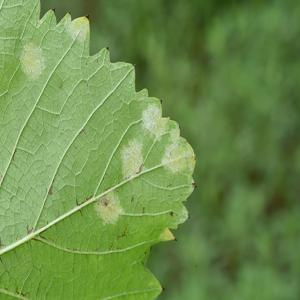Folha: (0, 0, 197, 299)
Fungo: (94, 135, 144, 226), (163, 124, 196, 176), (118, 135, 144, 179), (94, 188, 124, 226), (142, 100, 169, 140), (20, 40, 46, 80), (64, 13, 89, 44), (162, 224, 175, 244), (25, 222, 34, 235), (101, 195, 109, 207), (0, 236, 4, 250), (48, 184, 53, 195), (169, 211, 173, 217)
